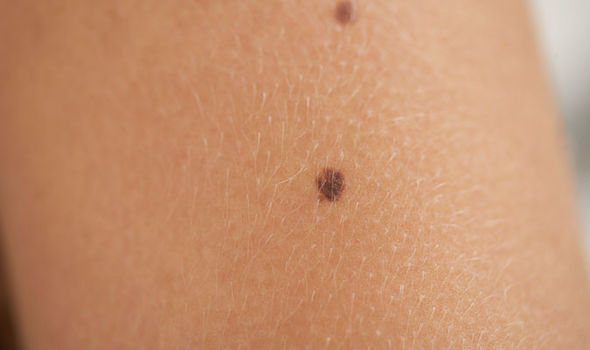melanoma: (244, 93, 360, 205)
